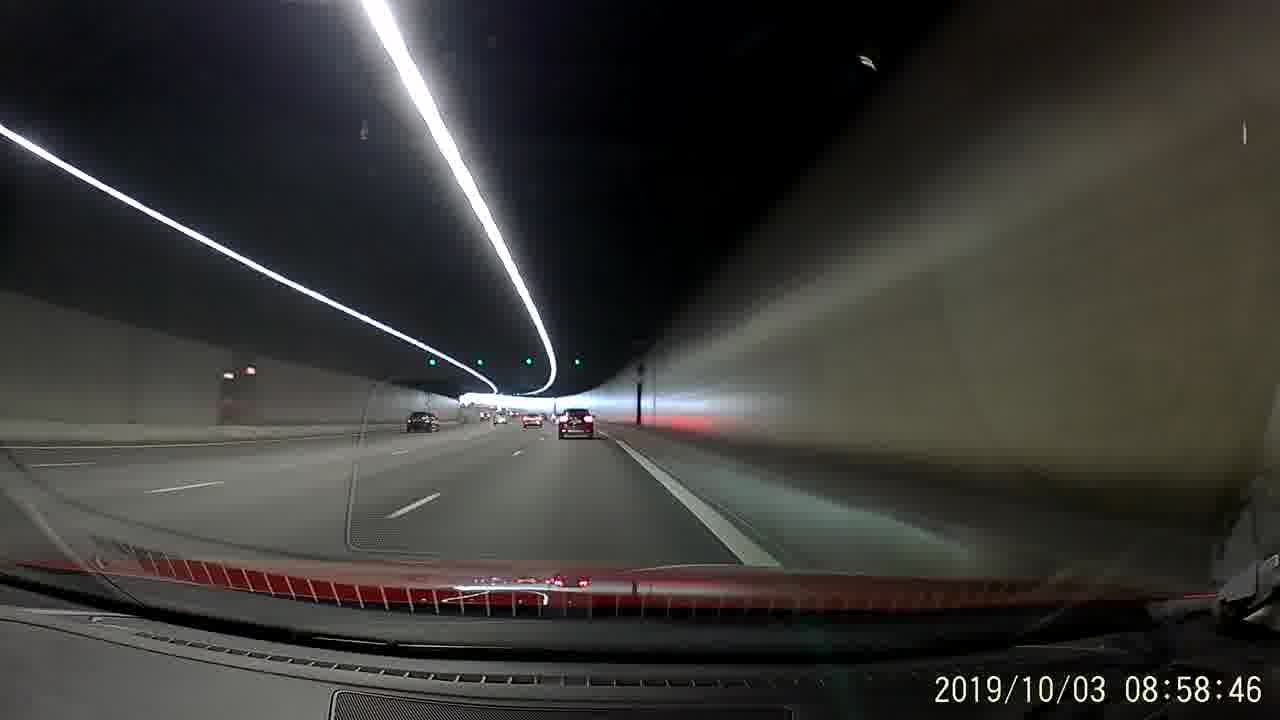car: (555, 406, 597, 440), (405, 407, 441, 435), (521, 409, 545, 430)
